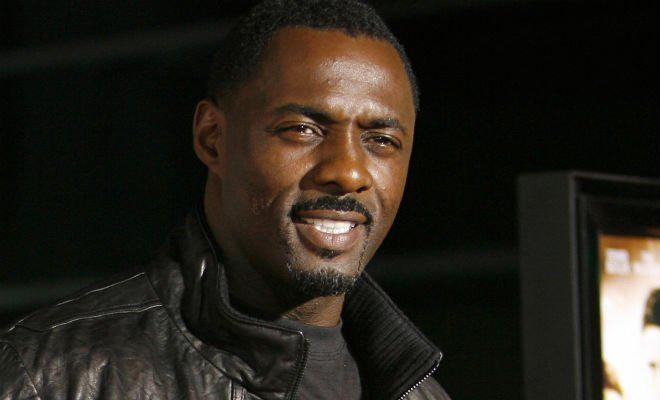Sober: (236, 47, 405, 263)
